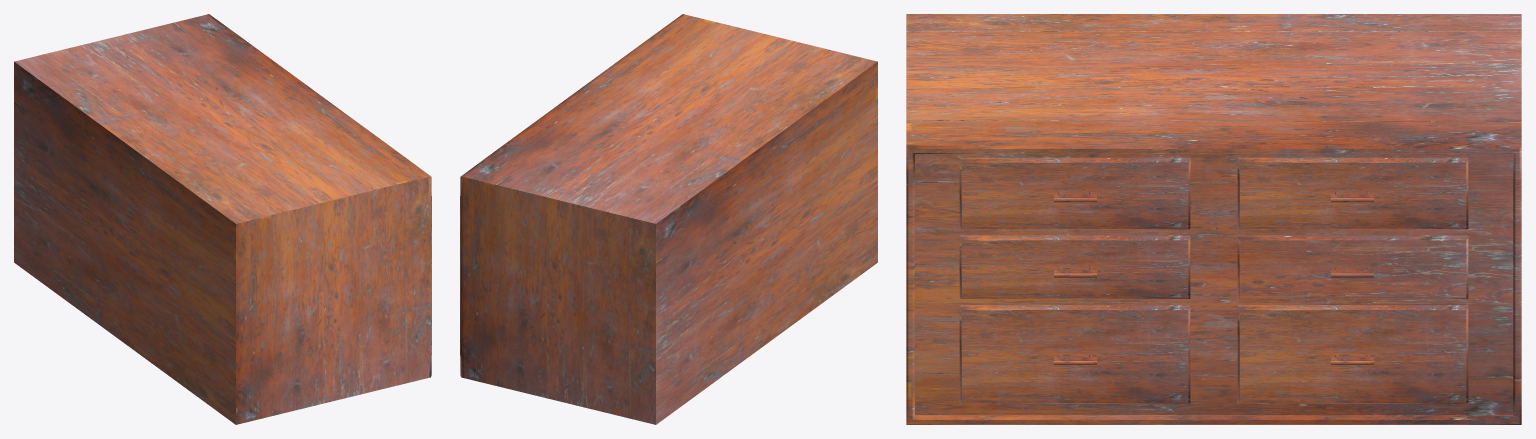
Rendered from Dresser.FBX.
The picture shows the model from 3 angles, left to right: view 1: azimuth 30°, elevation 25°; view 2: azimuth 150°, elevation 25°; view 3: azimuth 270°, elevation 25°; orthographic projection. The views are drawn at different scales.
Parts seen in each view (by area): view 1: Dresser; view 2: Dresser; view 3: Dresser, Bottom_Right, Bottom_left, top_right, Top_Left, Middle_right, middle_left.
Boxes of the visible parts, box(x1,y1,x2,y2) form: Dresser: box(14, 14, 431, 424); Dresser: box(460, 14, 877, 424); Dresser: box(906, 14, 1521, 424); Bottom_Right: box(1237, 305, 1468, 403); Bottom_left: box(959, 305, 1190, 403); top_right: box(1237, 157, 1468, 229); Top_Left: box(959, 157, 1190, 229); Middle_right: box(1237, 235, 1468, 298); middle_left: box(959, 235, 1190, 298).
Size of the model in its own units: 215 by 206 by 400.
1 material, 1 textured.
